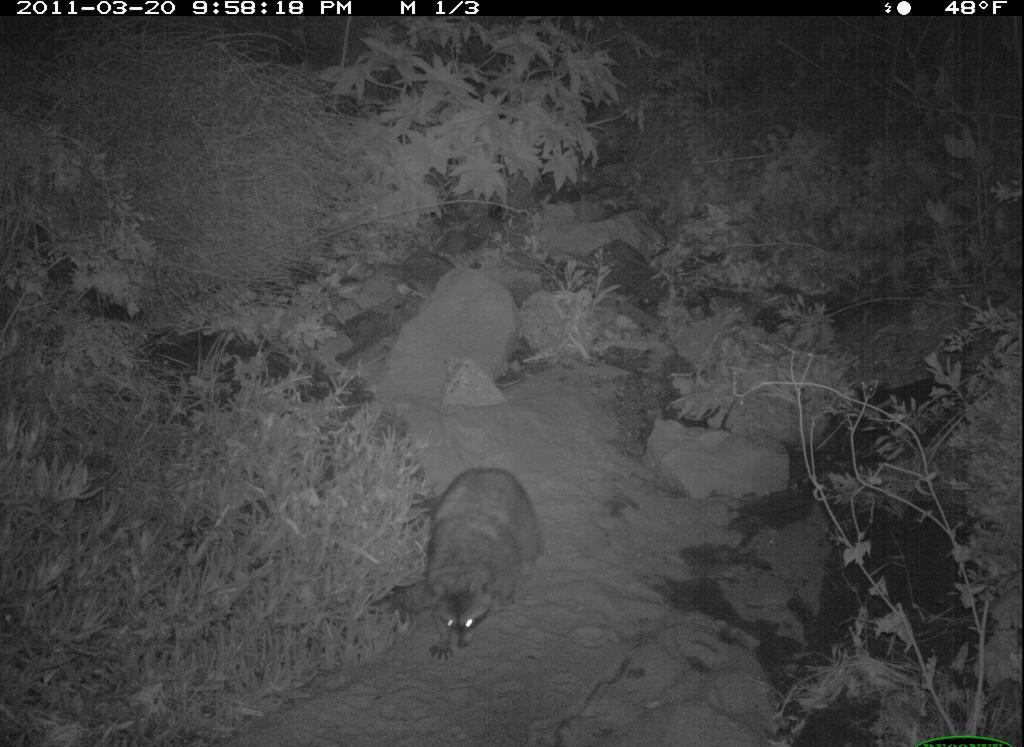raccoon: (405, 457, 553, 670)
